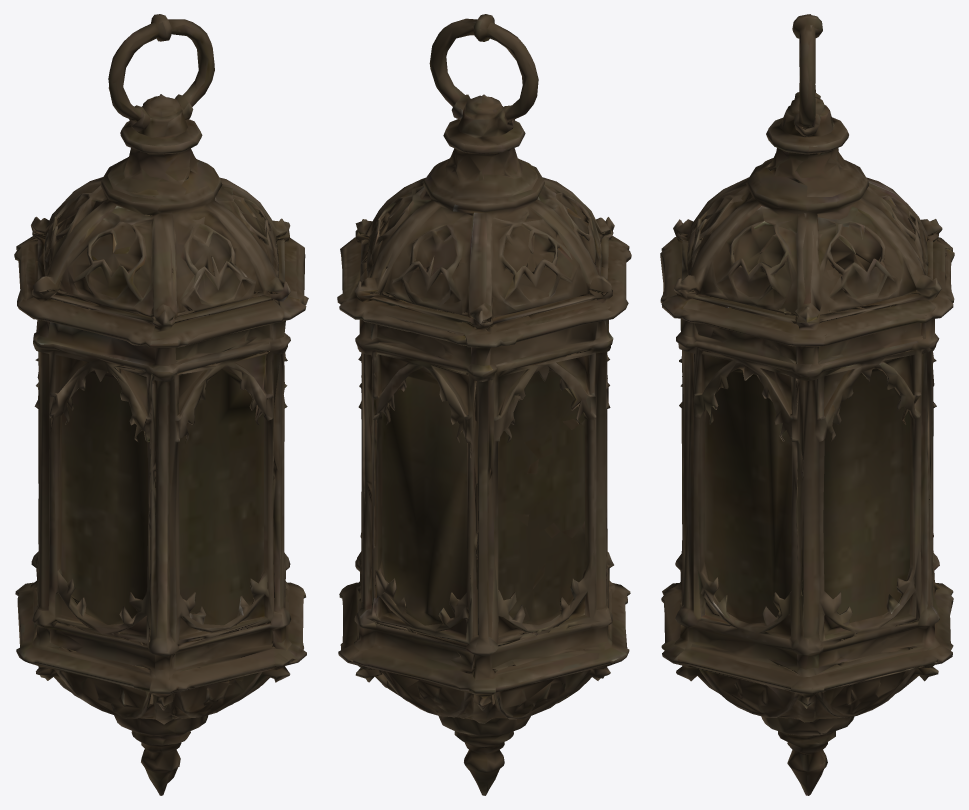
Rendered from prop_lantern.glb.
3 renders of one model, left to right at view 1: azimuth 30°, elevation 25°; view 2: azimuth 150°, elevation 25°; view 3: azimuth 270°, elevation 25°, orthographic.
Visible parts, largest first — view 1: geometry_0; view 2: geometry_0; view 3: geometry_0.
Part boxes in pixels (x1,y1,x2,y2): geometry_0: [14, 14, 308, 795]; geometry_0: [337, 14, 631, 795]; geometry_0: [660, 14, 954, 795].
Bounding box in the file's own units: 0.3763 × 1 × 0.3422.
Materials: 1 (1 with a texture image).
